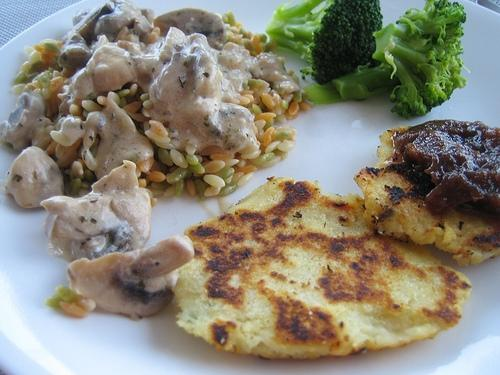broccoli: (372, 1, 470, 121), (266, 0, 384, 85), (332, 63, 401, 102)
mushroom: (40, 160, 152, 263), (66, 235, 196, 321), (94, 99, 154, 178), (5, 145, 64, 208), (0, 86, 53, 152), (154, 7, 225, 50), (86, 45, 136, 92), (62, 1, 114, 45), (57, 30, 92, 69), (170, 53, 202, 88)
